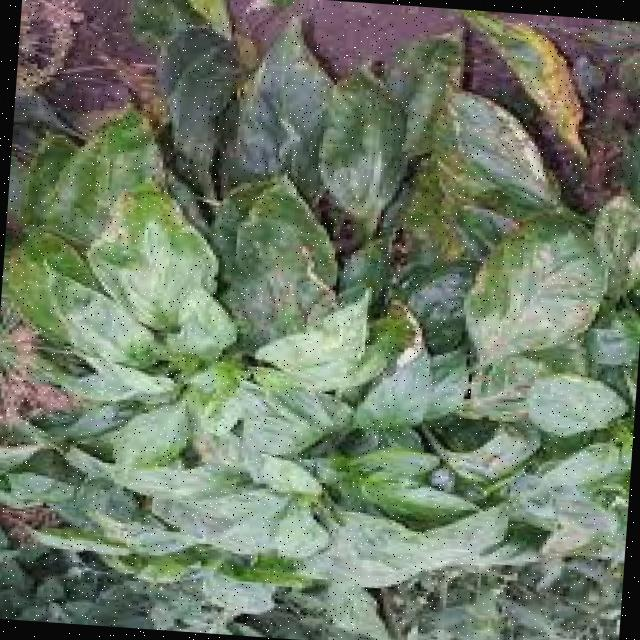leaf spot: (455, 191, 622, 367), (438, 8, 608, 169), (74, 173, 223, 323)
